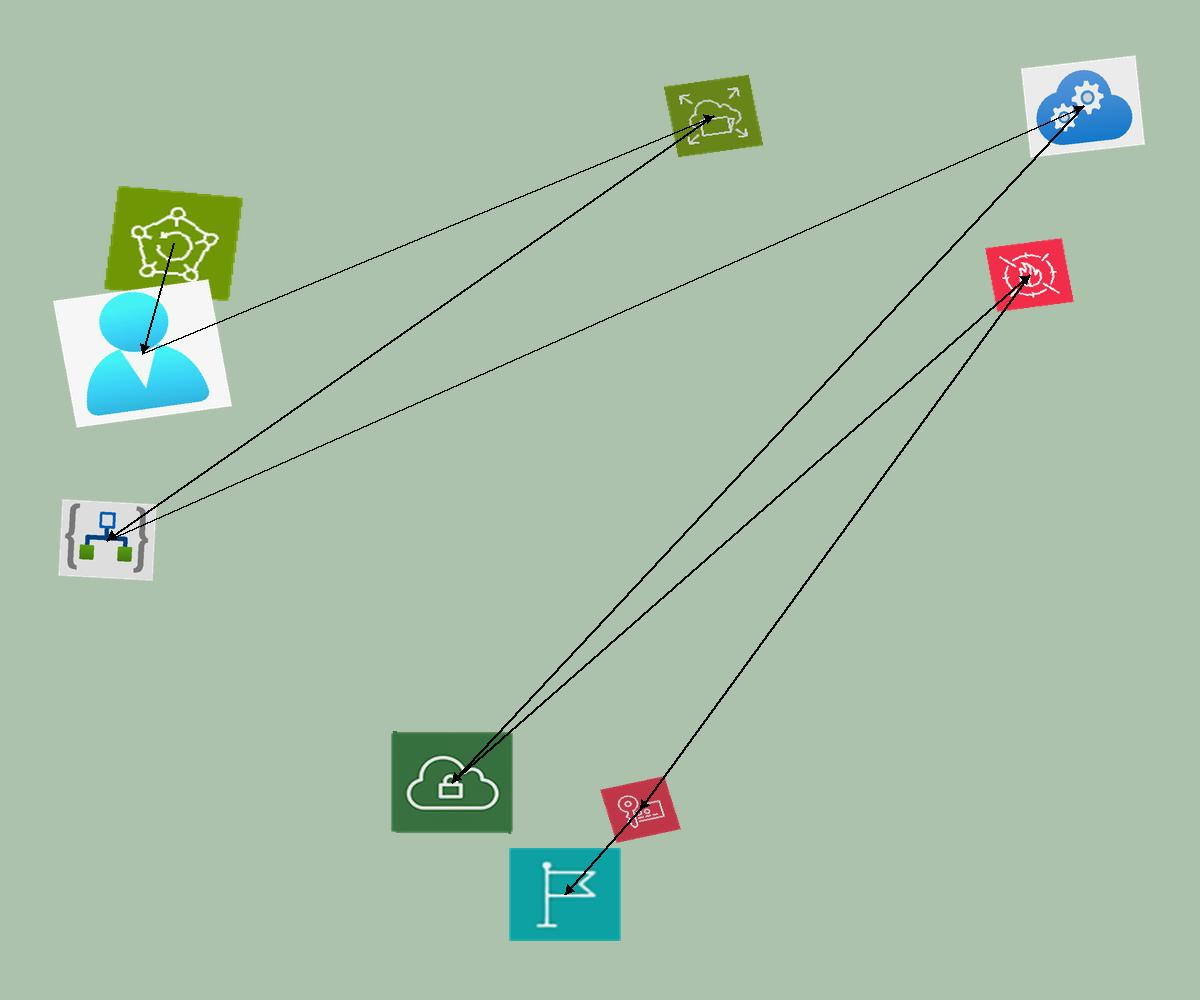AWS-Backup: (103, 185, 244, 302)
AWS-EFS: (663, 74, 764, 158)
AWS-Key-Management-Service: (600, 776, 681, 843)
AWS-Private_vpc: (390, 731, 514, 834)
AWS-Region: (508, 847, 622, 942)
AWS-WAF: (985, 238, 1074, 312)
Azure_cloud_services: (1021, 55, 1145, 158)
Azure_integration-204-Logic-Apps: (58, 499, 157, 581)
Azure_users: (53, 279, 232, 428)
